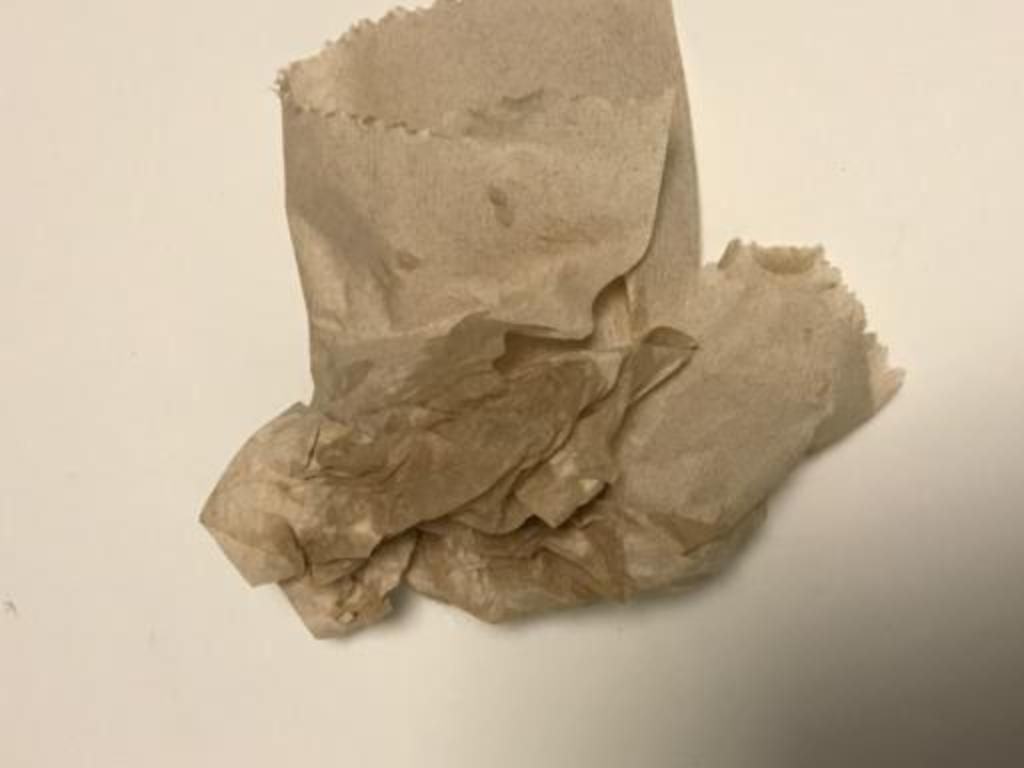garbage: (176, 5, 924, 679)
